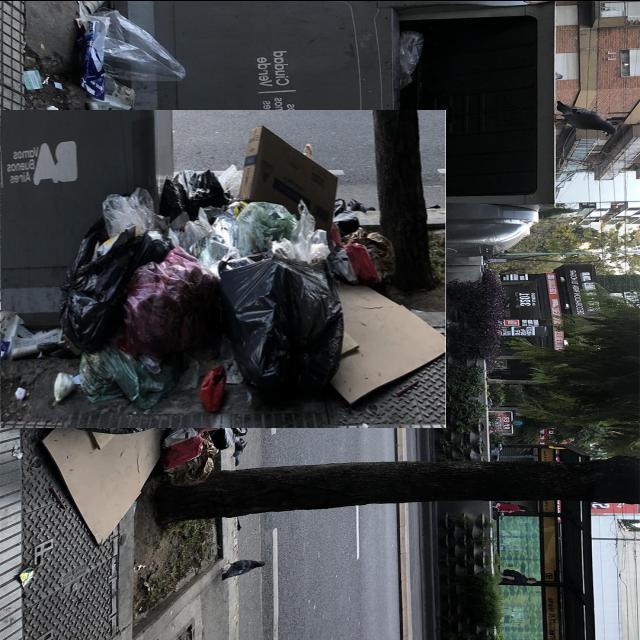Trashbag: (222, 247, 344, 373), (46, 242, 131, 348), (165, 158, 234, 220)
